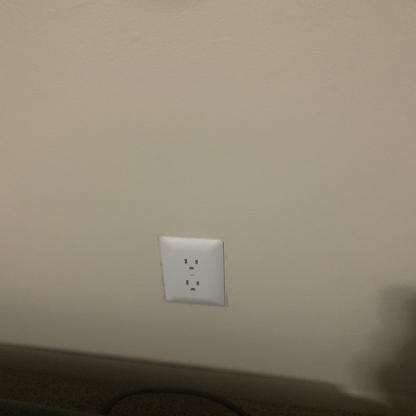OUTLET: (157, 236, 229, 307)
